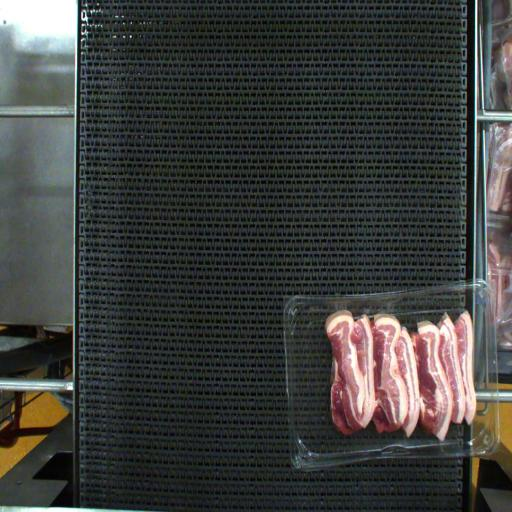packaging-error: (329, 286, 419, 327)
